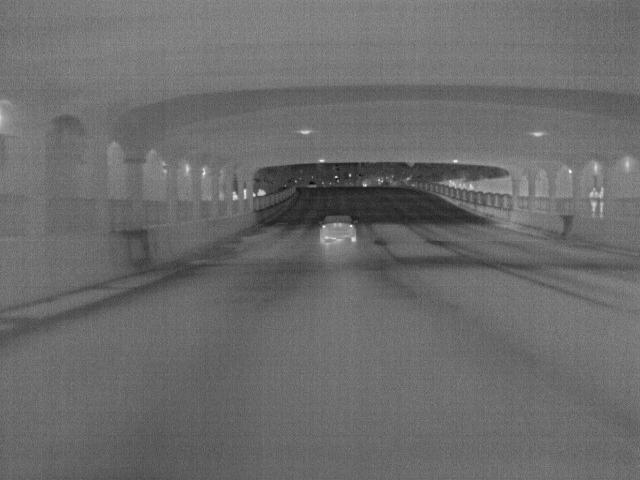car: (319, 213, 362, 246)
person: (589, 186, 602, 198)
